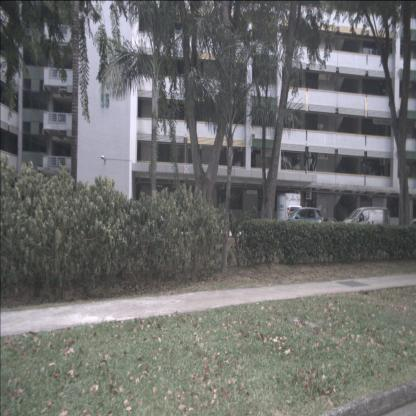vehicle-car: (339, 206, 390, 241), (280, 207, 324, 240), (319, 218, 341, 236)
vehicle-truck: (276, 193, 302, 235)
